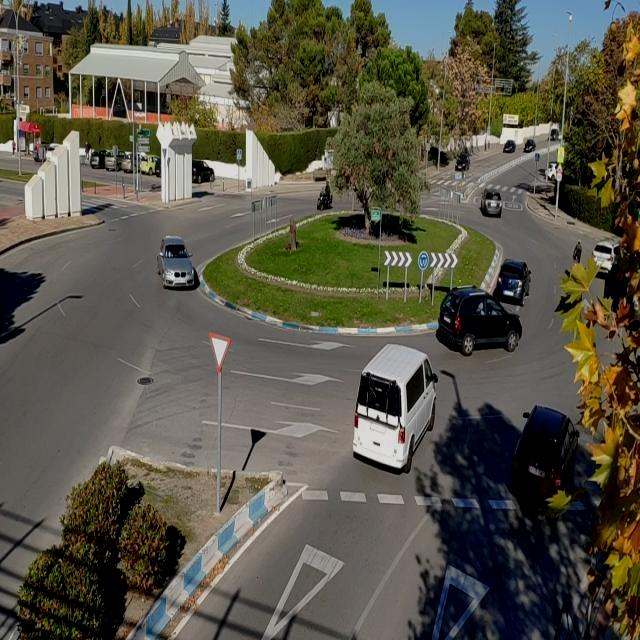Car: (509, 404, 581, 506), (438, 285, 524, 356), (156, 237, 195, 288), (494, 258, 531, 307), (480, 189, 504, 217), (193, 160, 215, 183), (454, 158, 470, 171), (522, 139, 536, 153), (503, 140, 516, 154)
Cycle: (316, 191, 334, 212)
Van: (351, 342, 440, 474)
